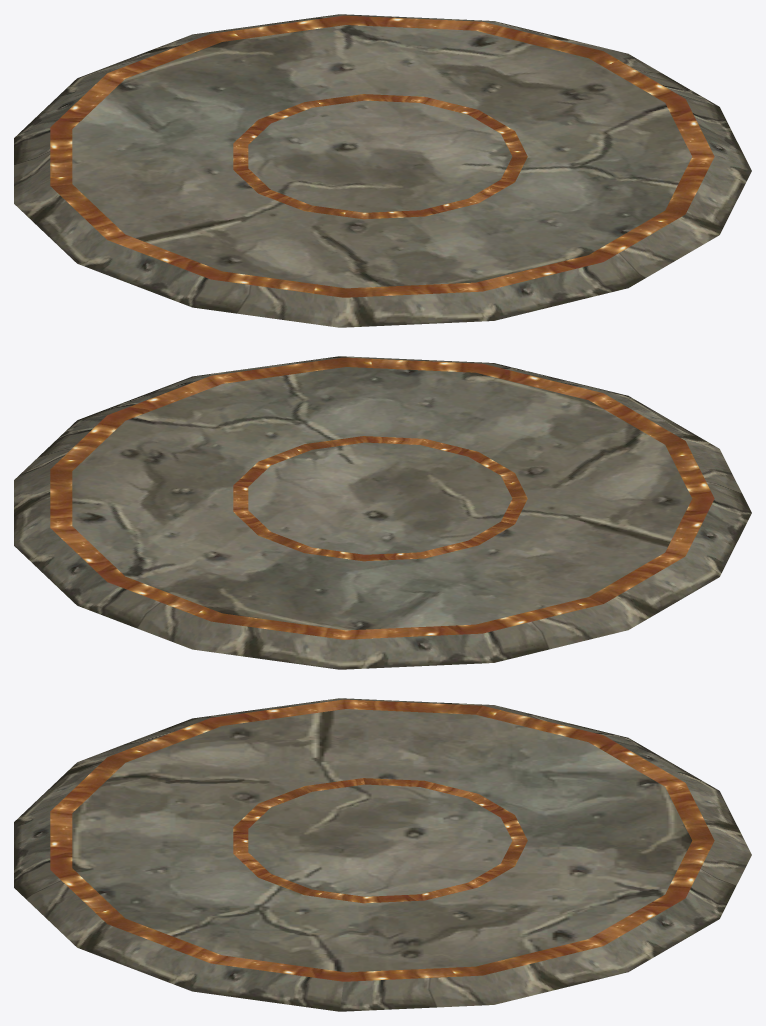
Rendered from portal-base-02.fbx.
3 renders of one model, top to bottom at view 1: azimuth 30°, elevation 25°; view 2: azimuth 150°, elevation 25°; view 3: azimuth 270°, elevation 25°, orthographic.
Visible parts, largest first — view 1: Cylinder.075; view 2: Cylinder.075; view 3: Cylinder.075.
Part boxes in pixels (x1=…): Cylinder.075: x1=14, y1=14, x2=751, y2=327; Cylinder.075: x1=14, y1=356, x2=751, y2=669; Cylinder.075: x1=14, y1=698, x2=751, y2=1011.
Bounding box in the file's own units: 2.07 × 0.0441 × 2.06.
